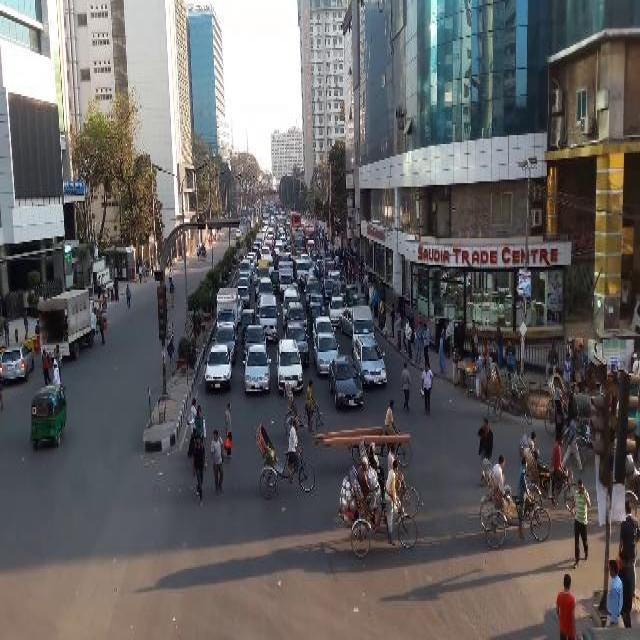vehicle: (313, 400, 414, 466), (479, 454, 553, 544), (350, 462, 418, 558), (516, 431, 582, 520), (256, 417, 315, 499), (37, 289, 99, 360), (362, 444, 421, 511), (486, 363, 537, 425), (285, 379, 330, 445), (30, 383, 69, 451), (329, 355, 366, 408), (565, 394, 592, 465), (352, 335, 388, 385), (276, 338, 305, 389), (204, 345, 234, 393), (547, 369, 572, 426), (243, 345, 271, 393), (284, 321, 311, 364), (314, 330, 341, 372), (258, 295, 281, 341), (285, 302, 310, 344), (212, 325, 238, 364), (216, 286, 238, 332), (1, 348, 37, 376), (242, 324, 269, 358), (282, 287, 301, 330), (304, 277, 322, 312), (258, 276, 277, 306), (329, 296, 348, 325), (340, 307, 358, 335), (279, 261, 293, 293), (242, 308, 254, 345), (295, 258, 310, 284), (292, 226, 306, 252), (320, 258, 337, 277), (310, 301, 322, 327), (239, 285, 252, 307), (305, 223, 316, 246), (290, 212, 302, 231), (353, 292, 367, 308), (332, 281, 346, 297), (347, 285, 358, 304), (240, 260, 251, 279), (258, 261, 268, 279), (272, 269, 281, 288), (307, 259, 316, 273), (262, 247, 271, 260), (201, 242, 207, 258), (276, 215, 283, 228), (276, 239, 284, 250), (278, 254, 290, 261), (263, 213, 269, 226), (258, 232, 265, 243), (266, 239, 273, 250), (235, 230, 241, 239), (278, 228, 284, 237)
